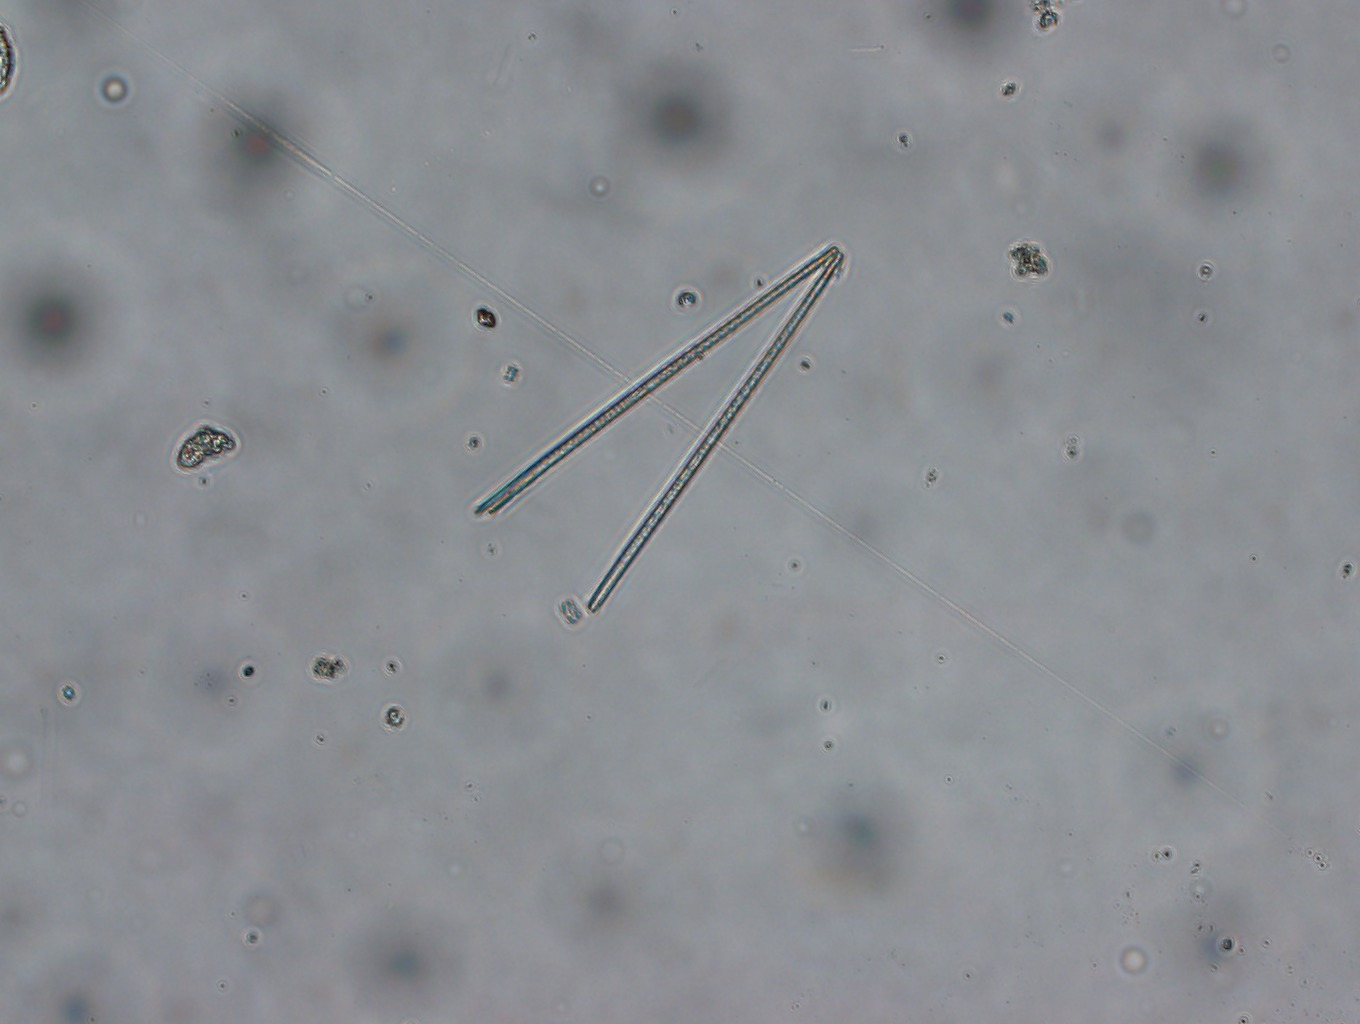thalassionema frauenfeldii: (471, 244, 843, 614)
